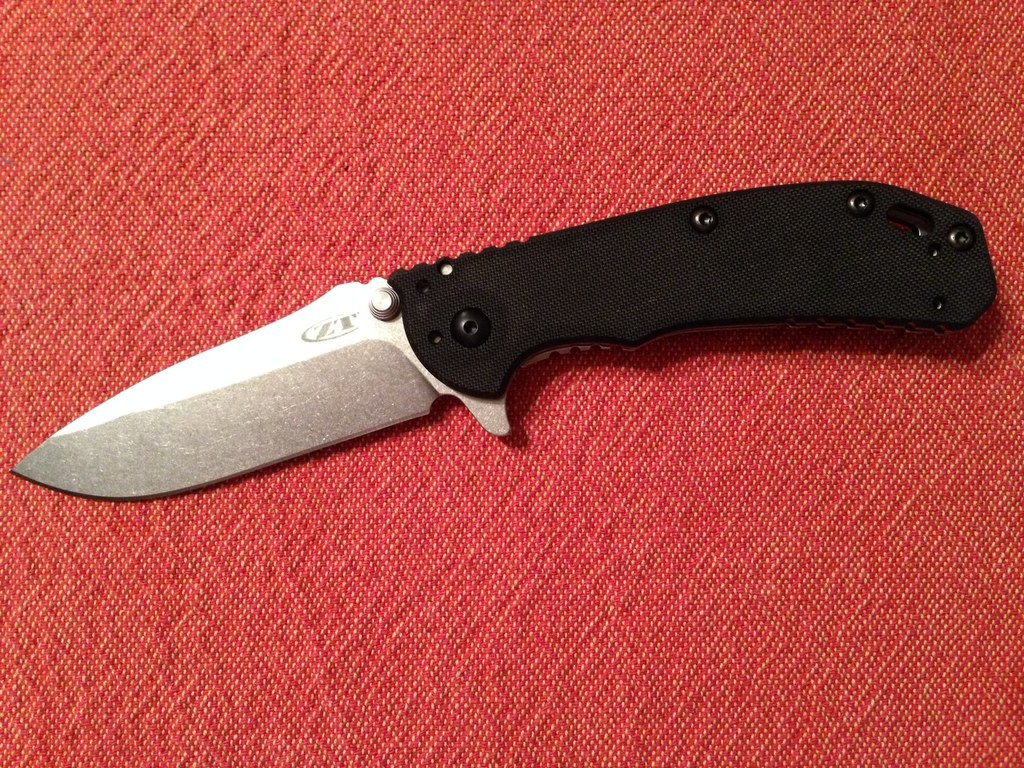knife: (8, 180, 997, 502)
